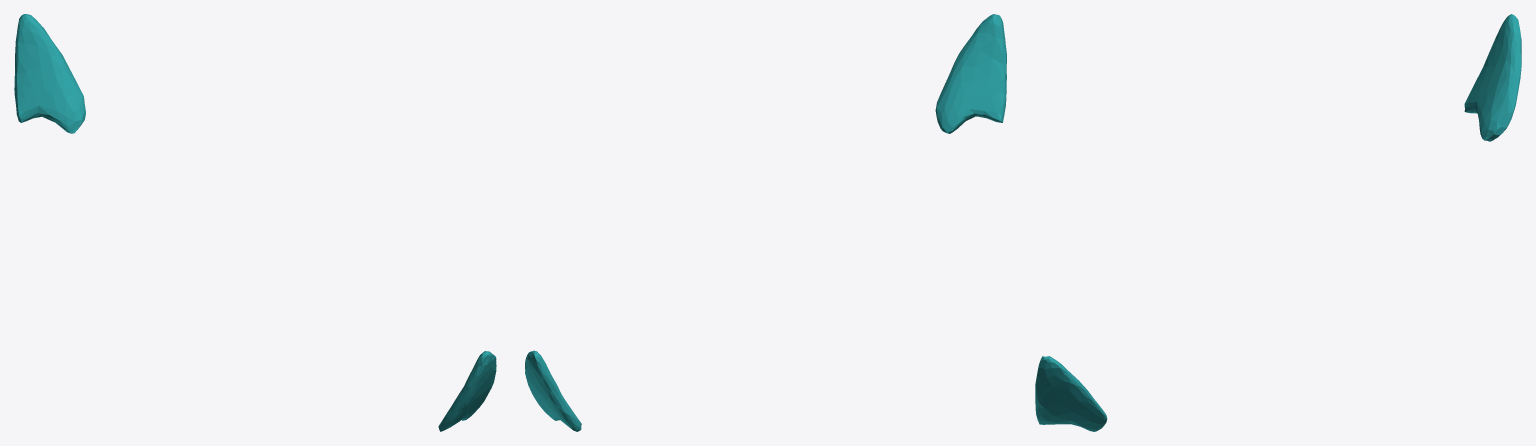
3 renders of one model, left to right at view 1: azimuth 30°, elevation 25°; view 2: azimuth 150°, elevation 25°; view 3: azimuth 330°, elevation 25°, orthographic.
Parts seen in each view (by area): view 1: 312782648.obj; view 2: 312782648.obj; view 3: 312782648.obj.
Boxes of the visible parts, x1,y1,x2,y2 form: 312782648.obj: [14, 14, 496, 431]; 312782648.obj: [525, 14, 1006, 431]; 312782648.obj: [1035, 14, 1521, 431].
Bounding box in the file's own units: 594 × 982 × 8444.
